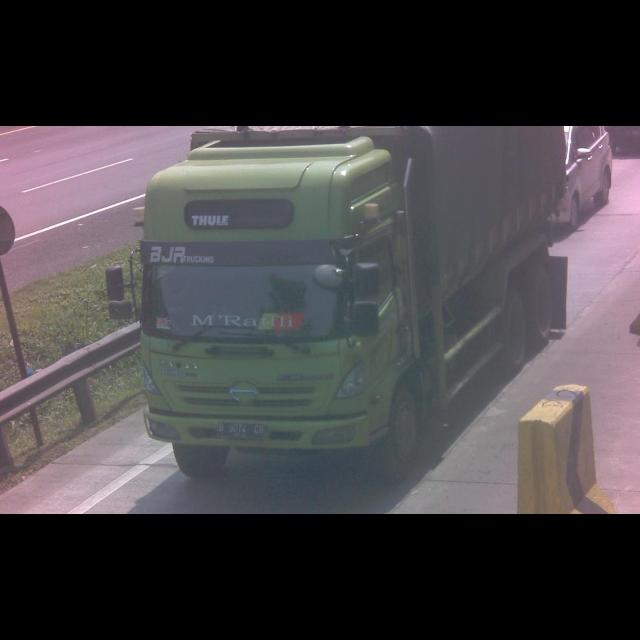plate: (213, 419, 271, 439)
